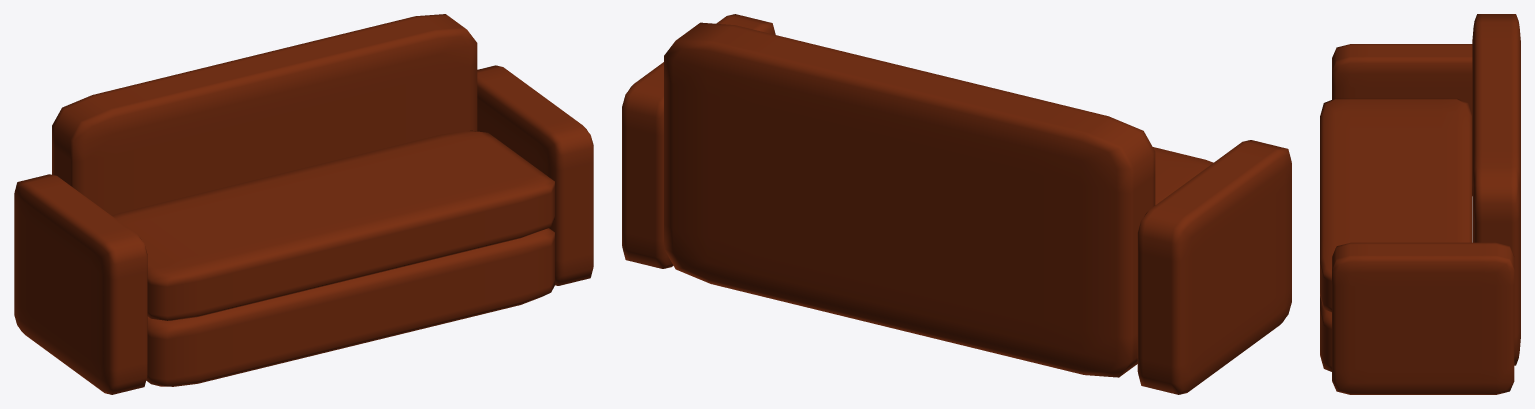
The model's file is sillongrande.FBX.
The picture shows the model from 3 angles, left to right: view 1: azimuth 30°, elevation 25°; view 2: azimuth 150°, elevation 25°; view 3: azimuth 270°, elevation 25°; orthographic projection. The views are drawn at different scales.
Visible parts, largest first — view 1: Box002, Box001, Box003, Box004, Box005; view 2: Box002, Box004, Box005, Box001; view 3: Box005, Box001, Box002, Box004, Box003.
Boxes of the visible parts, bbox=[...] form: Box002: bbox=[52, 14, 477, 215]; Box001: bbox=[112, 130, 554, 320]; Box003: bbox=[146, 228, 554, 386]; Box004: bbox=[14, 174, 147, 394]; Box005: bbox=[477, 65, 593, 285]; Box002: bbox=[664, 22, 1155, 377]; Box004: bbox=[1137, 140, 1291, 394]; Box005: bbox=[622, 14, 775, 268]; Box001: bbox=[1153, 147, 1213, 204]; Box005: bbox=[1332, 242, 1514, 394]; Box001: bbox=[1320, 98, 1471, 312]; Box002: bbox=[1472, 14, 1520, 365]; Box004: bbox=[1332, 44, 1472, 195]; Box003: bbox=[1320, 296, 1331, 371].
Size of the model in its own units: 843 by 353 by 330.
